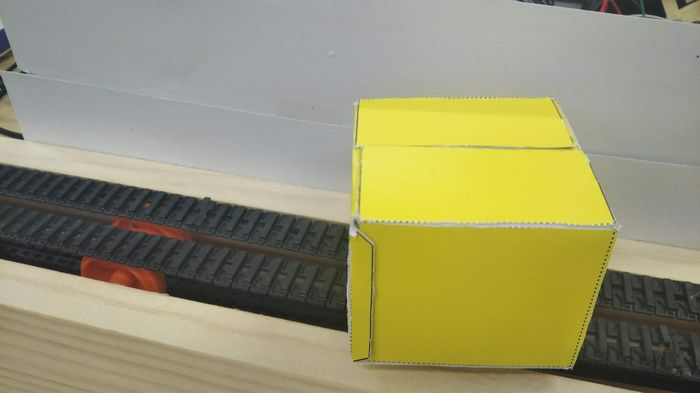box4: (338, 93, 620, 373)
